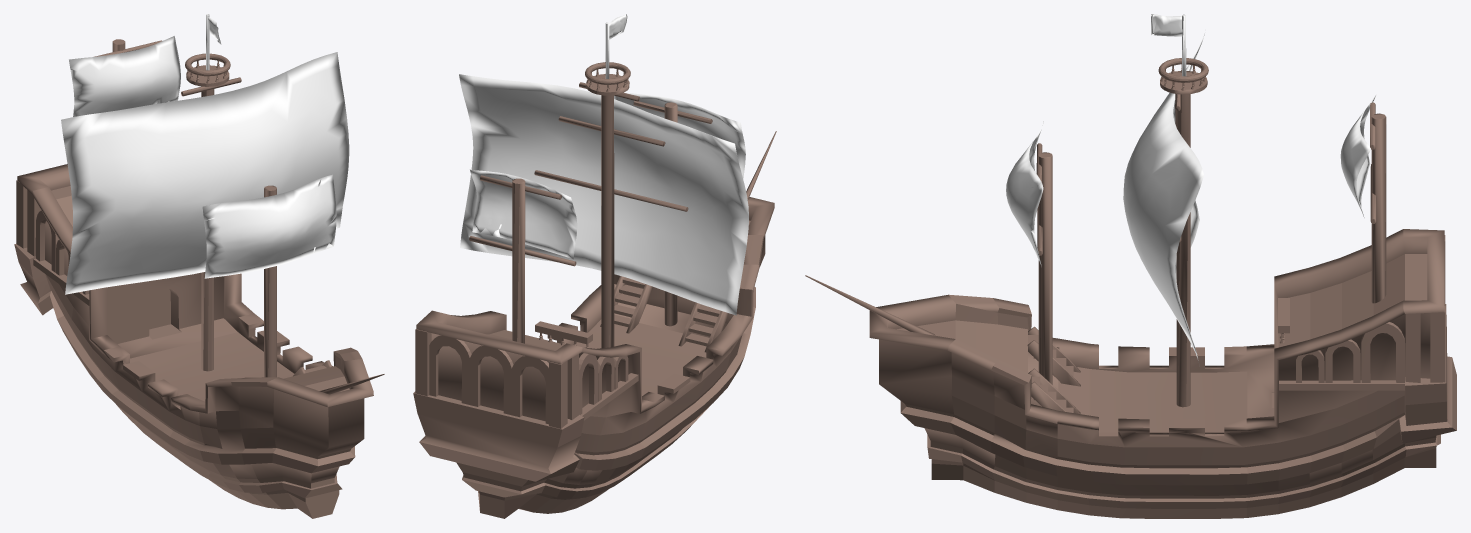
Rendered from NewMainShip.fbx.
3 views of the same model, side by side, from view 1: azimuth 30°, elevation 25°; view 2: azimuth 150°, elevation 25°; view 3: azimuth 270°, elevation 25° (orthographic). The views are drawn at different scales.
Visible parts, largest first — view 1: Flag; view 2: Flag; view 3: Flag.
Boxes of the visible parts, bbox=[...] form: Flag: bbox=[14, 14, 384, 518]; Flag: bbox=[413, 14, 776, 518]; Flag: bbox=[805, 14, 1456, 518].
Size of the model in its own units: 2093 by 3260 by 3874.
